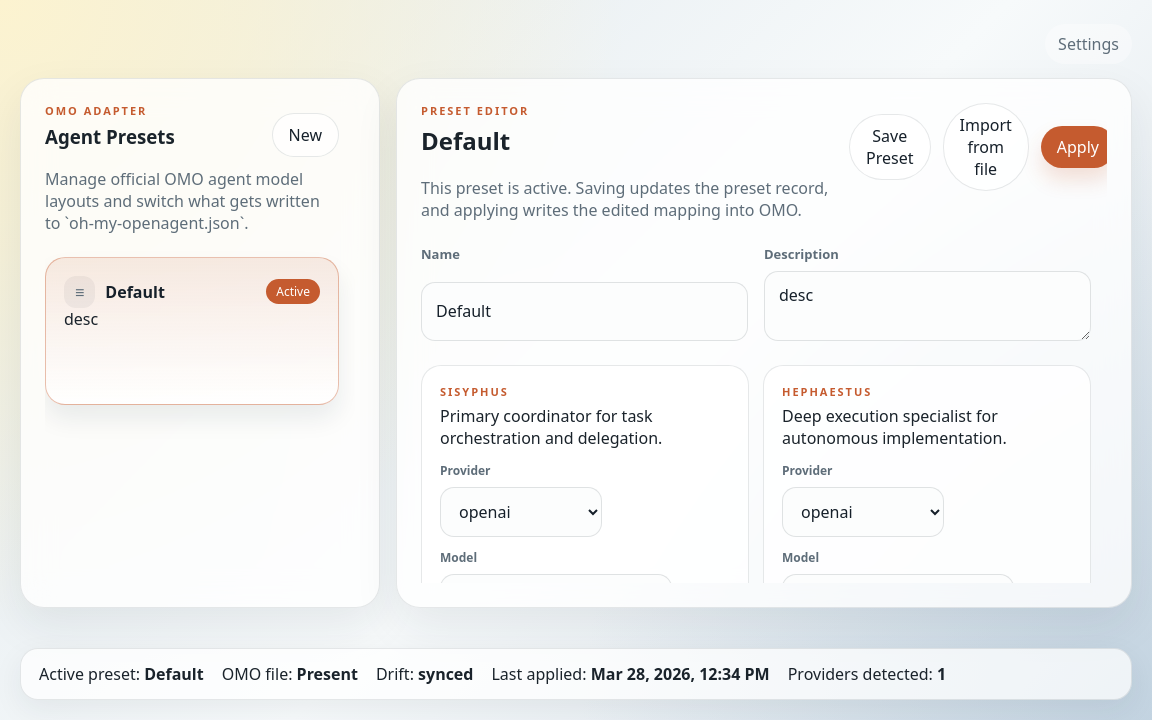
App › closes the settings menu when clicking outside and shows refresh feedback
The width and height of the screenshot is (1152, 720).
Click the button "Settings".
click(1089, 44)  # box [1045,24,1132,64]
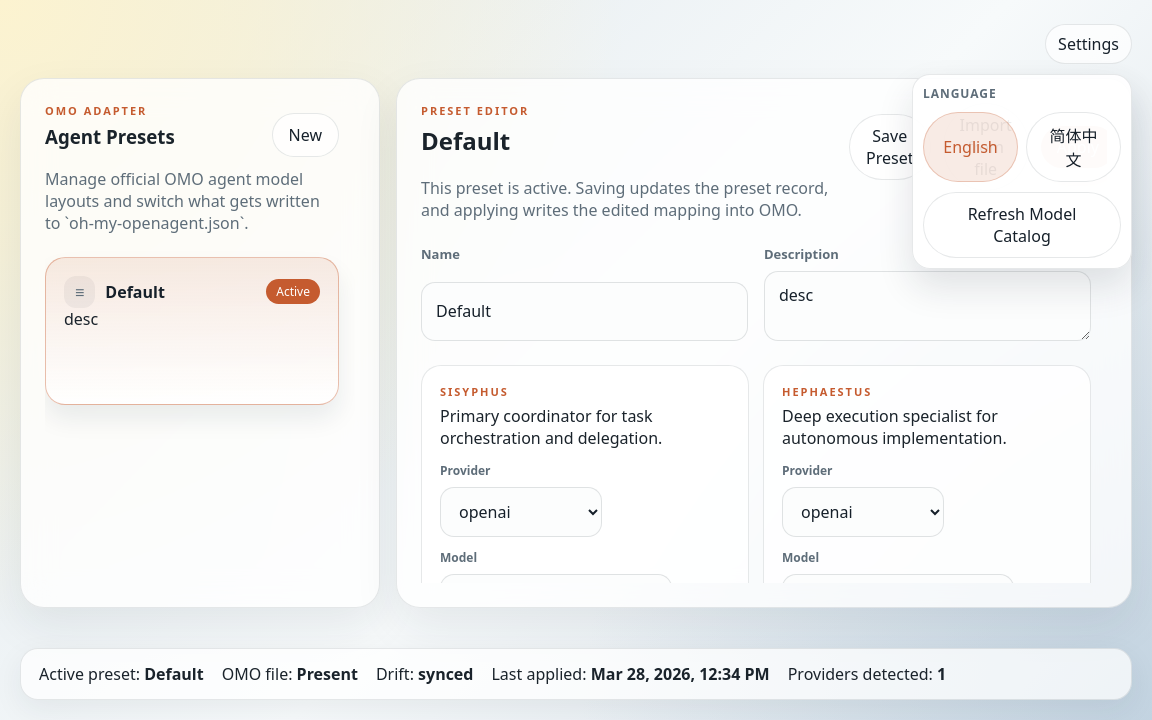
Now the button "Refresh Model Catalog" is shown, box [923,192,1121,258]
Press the mouse on the element that starts with "Settings" at (576, 360), box [0,0,1151,719]
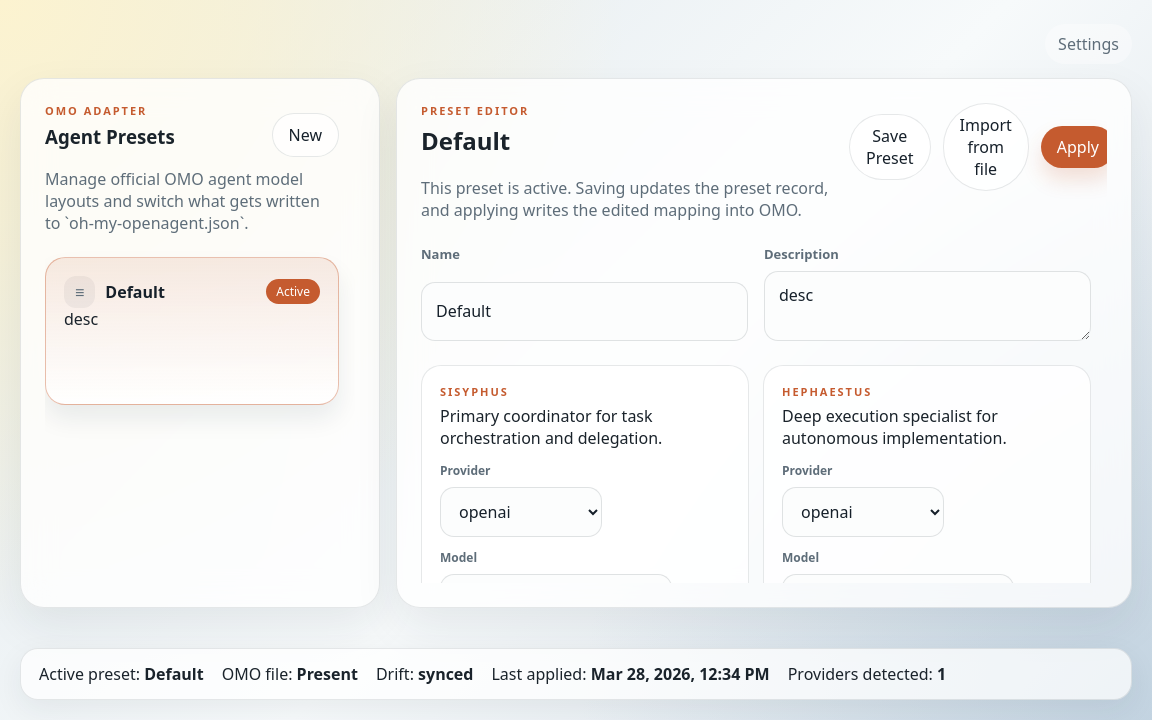
Now the button "Refresh Model Catalog" is gone
Click the button "Settings".
click(1089, 44)  # box [1045,24,1132,64]
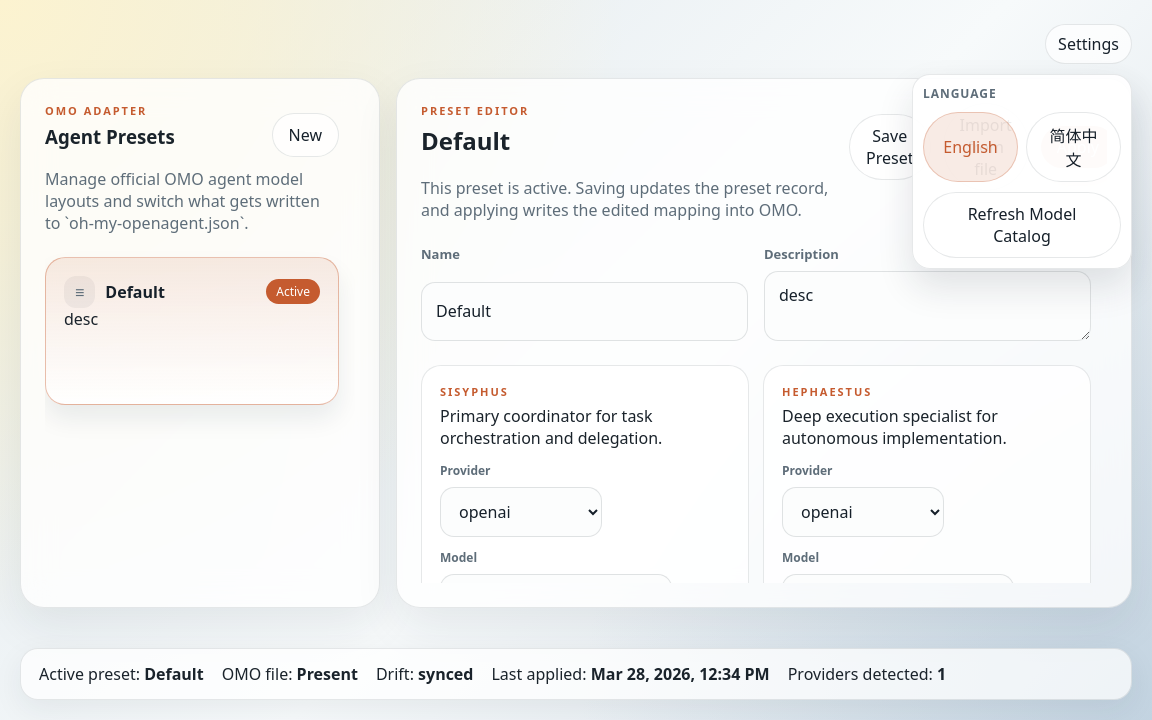
Click the button "Refresh Model Catalog".
click(1022, 225)  # box [923,192,1121,258]
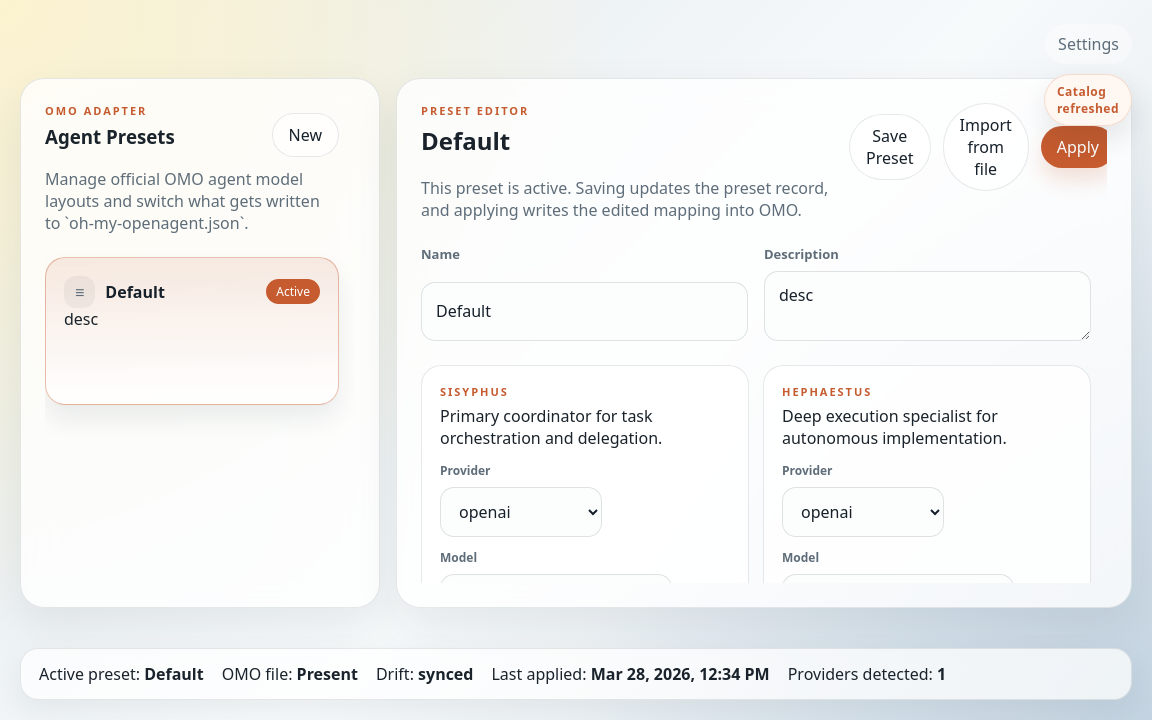
Now the text "Catalog refreshed" is shown, box [1044,74,1132,126]
